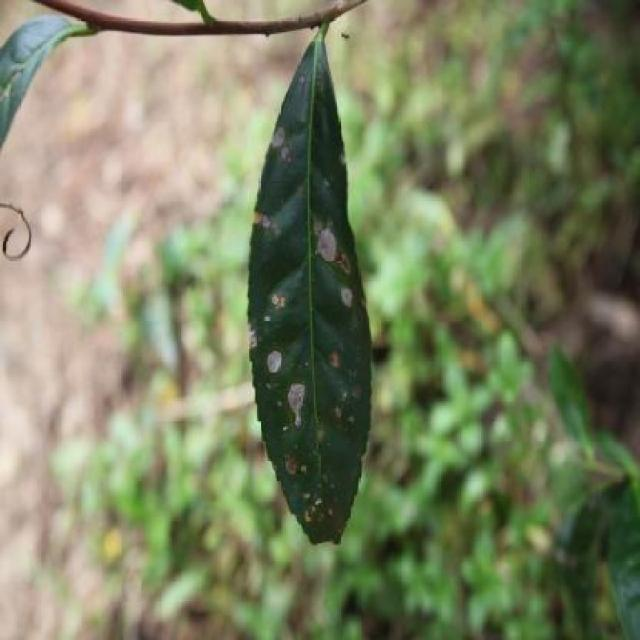Leaf rust of tea: (246, 46, 374, 549)
